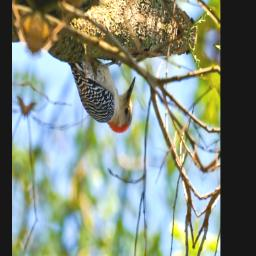Woodpecker: (54, 33, 144, 156)
